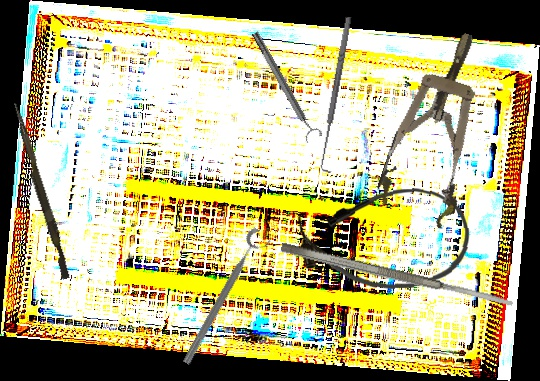Cannula: (296, 185, 473, 294)
Fixation Ring: (178, 225, 274, 372), (246, 27, 324, 145)
Hook Surgical: (316, 15, 359, 174)
Pusher: (6, 102, 75, 280)
Spatula Surgical: (279, 240, 515, 311)
Speculum: (371, 22, 508, 231)
